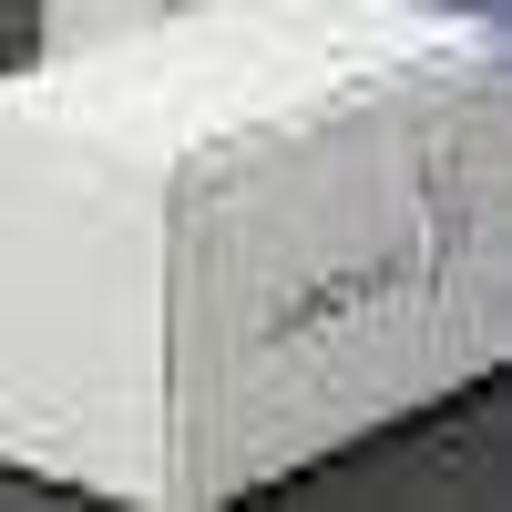Other: (11, 4, 510, 508)
